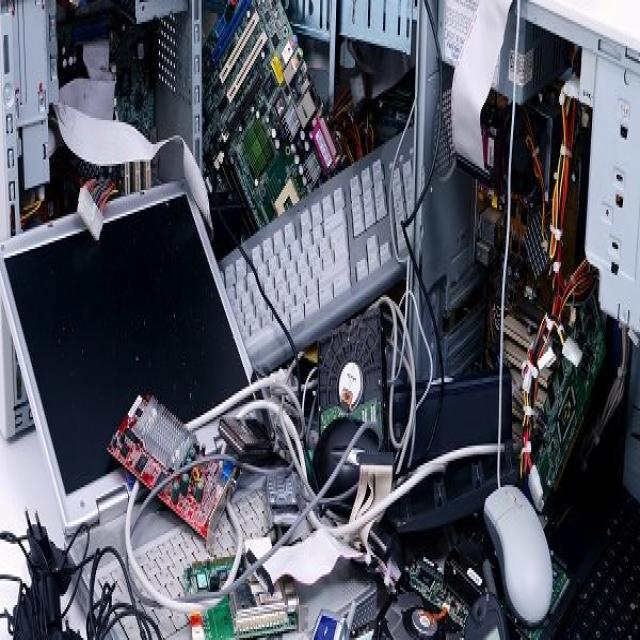hazard: (0, 0, 631, 640)
